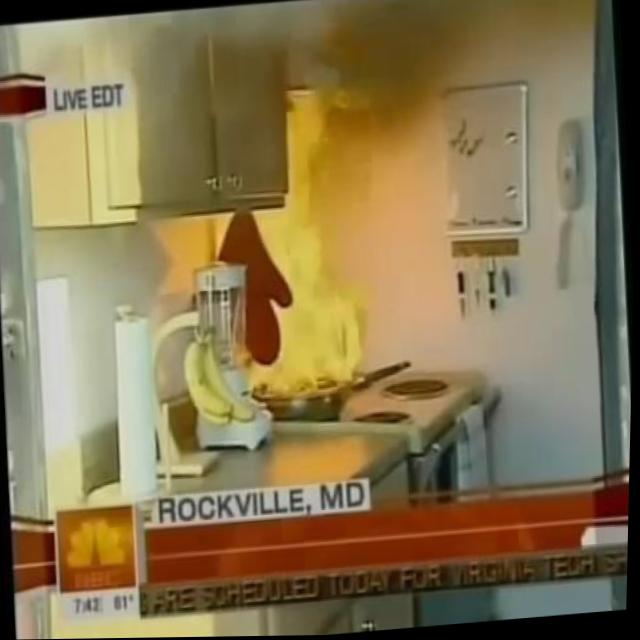fire: (199, 200, 377, 399), (282, 89, 365, 213)
